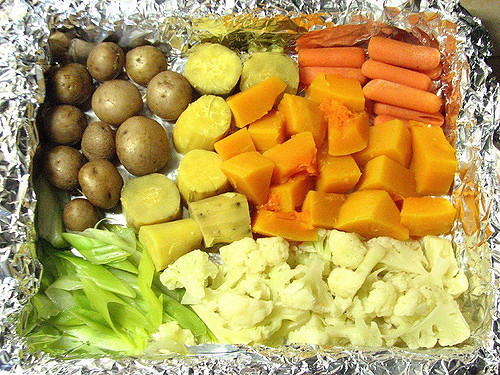boiled potatoes: (68, 51, 133, 179)
